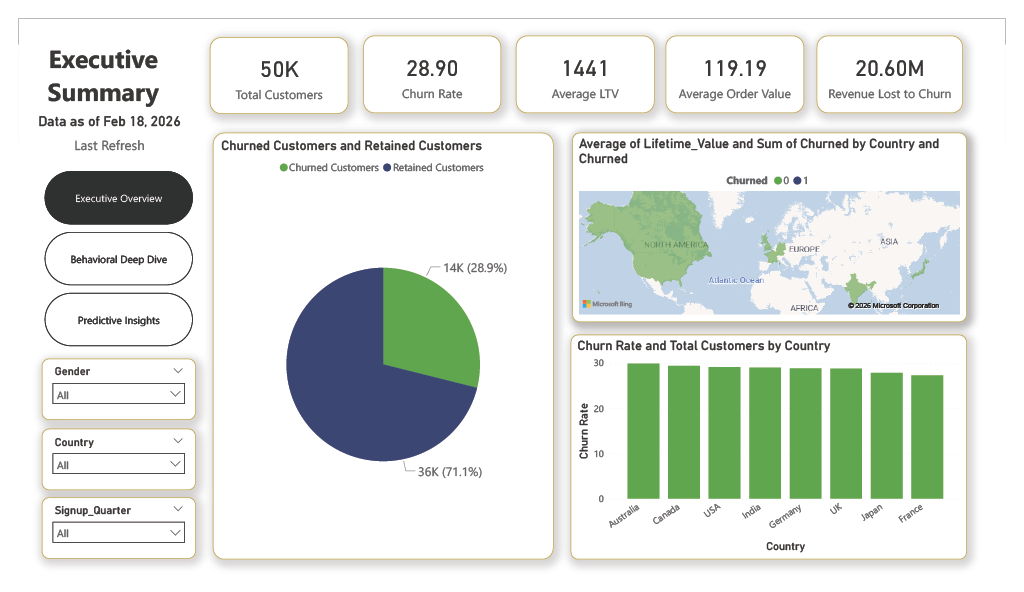

The page's visual inventory and layout, read from the dashboard file:
{"tool":"powerbi","page":{"name":"Executive Overview","canvas":[1280,720],"ordinal":0},"visuals":[{"type":"card","fields":{"Values":["ecommerce_customer_churn_dataset_cleaned.Total Customers"]},"box":[248,24,180,100],"z":0},{"type":"card","fields":{"Values":["ecommerce_customer_churn_dataset_cleaned.Churn Rate"]},"box":[446.6,21.7,179.3,101.6],"z":1000},{"type":"card","fields":{"Values":["ecommerce_customer_churn_dataset_cleaned.Average LTV"]},"box":[645.3,21.7,179.3,101.6],"z":2000},{"type":"card","fields":{"Values":["ecommerce_customer_churn_dataset_cleaned.Average Order Value"]},"box":[839.5,21.7,179.3,101.6],"z":3000},{"type":"pieChart","fields":{"Y":["ecommerce_customer_churn_dataset_cleaned.Churned Customers","ecommerce_customer_churn_dataset_cleaned.Retained Customers"]},"box":[252,148,442,554],"z":4000},{"type":"clusteredColumnChart","fields":{"Category":["ecommerce_customer_churn_dataset_cleaned.Country"],"Y":["ecommerce_customer_churn_dataset_cleaned.Churn Rate"]},"box":[716,410,514,292],"z":5000},{"type":"slicer","fields":{"Values":["ecommerce_customer_churn_dataset_cleaned.Gender"]},"box":[30.2,441.5,200,80],"z":6000},{"type":"slicer","fields":{"Values":["ecommerce_customer_churn_dataset_cleaned.Country"]},"box":[30.2,532.2,200,80],"z":7000},{"type":"slicer","fields":{"Values":["ecommerce_customer_churn_dataset_cleaned.Signup_Quarter"]},"box":[30.2,621.2,200,80],"z":8000},{"type":"filledMap","fields":{"Category":["ecommerce_customer_churn_dataset_cleaned.Country"],"Series":["ecommerce_customer_churn_dataset_cleaned.Churned"]},"box":[718,148,512,246],"z":9000},{"type":"textbox","box":[24,24,172,100],"z":10000},{"type":"card","fields":{"Values":["ecommerce_customer_churn_dataset_cleaned.Revenue Lost to Churn"]},"box":[1035.2,21.7,189.7,101.6],"z":11000},{"type":"card","fields":{"Values":["ecommerce_customer_churn_dataset_cleaned.Last Refresh"]},"box":[18,110,200,70],"z":12000},{"type":"pageNavigator","box":[34,198,192,228],"z":12001}]}

Visuals, with their boxes in screenshot pixels (x1, y1, x2, y2), scaled from the page's 1280x720 canvas onto the 1024x592 screenshot:
card - ecommerce_customer_churn_dataset_cleaned.Total Customers: select_region(198, 20, 342, 102)
card - ecommerce_customer_churn_dataset_cleaned.Churn Rate: select_region(357, 18, 501, 101)
card - ecommerce_customer_churn_dataset_cleaned.Average LTV: select_region(516, 18, 660, 101)
card - ecommerce_customer_churn_dataset_cleaned.Average Order Value: select_region(672, 18, 815, 101)
pieChart - ecommerce_customer_churn_dataset_cleaned.Churned Customers x ecommerce_customer_churn_dataset_cleaned.Retained Customers: select_region(202, 122, 555, 577)
clusteredColumnChart - ecommerce_customer_churn_dataset_cleaned.Country x ecommerce_customer_churn_dataset_cleaned.Churn Rate: select_region(573, 337, 984, 577)
slicer - ecommerce_customer_churn_dataset_cleaned.Gender: select_region(24, 363, 184, 429)
slicer - ecommerce_customer_churn_dataset_cleaned.Country: select_region(24, 438, 184, 503)
slicer - ecommerce_customer_churn_dataset_cleaned.Signup_Quarter: select_region(24, 511, 184, 577)
filledMap - ecommerce_customer_churn_dataset_cleaned.Country x ecommerce_customer_churn_dataset_cleaned.Churned: select_region(574, 122, 984, 324)
textbox: select_region(19, 20, 157, 102)
card - ecommerce_customer_churn_dataset_cleaned.Revenue Lost to Churn: select_region(828, 18, 980, 101)
card - ecommerce_customer_churn_dataset_cleaned.Last Refresh: select_region(14, 90, 174, 148)
pageNavigator: select_region(27, 163, 181, 350)
